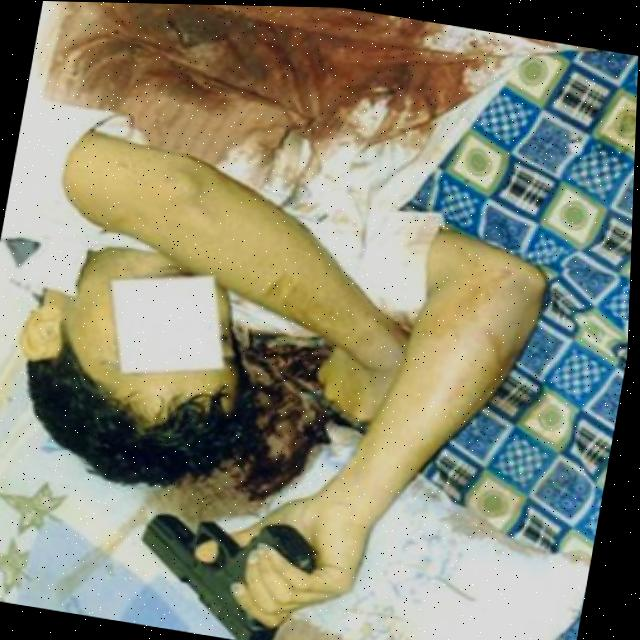pistol: (125, 501, 329, 640)
